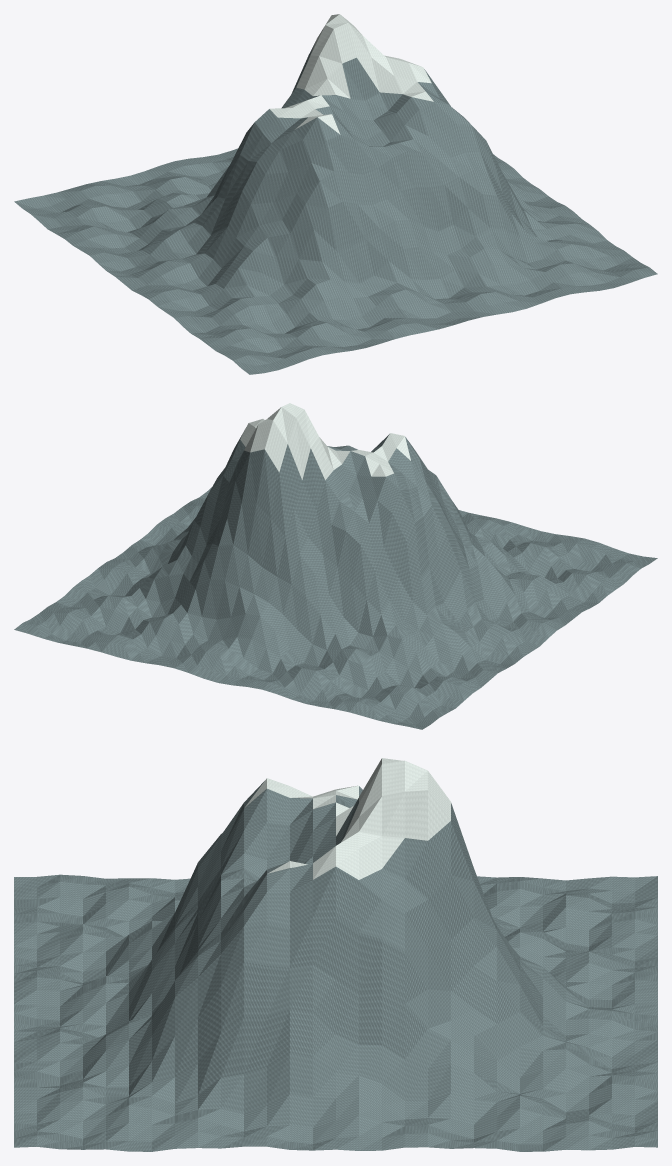
The model's file is distant_snow_mountain_02.glb.
3 renders of one model, top to bottom at view 1: azimuth 30°, elevation 25°; view 2: azimuth 150°, elevation 25°; view 3: azimuth 270°, elevation 25°, orthographic. The views are drawn at different scales.
Visible parts, largest first — view 1: massif, snow_peak; view 2: massif, snow_peak; view 3: massif, snow_peak.
Boxes of the visible parts, <box> form: massif: <box>14,41,657,374</box>; snow_peak: <box>269,14,433,134</box>; massif: <box>14,428,657,729</box>; snow_peak: <box>240,403,410,479</box>; massif: <box>14,781,657,1151</box>; snow_peak: <box>245,758,450,879</box>.
Bounding box in the file's own units: 220 × 108 × 220.
Materials: 2 (2 with a texture image).
